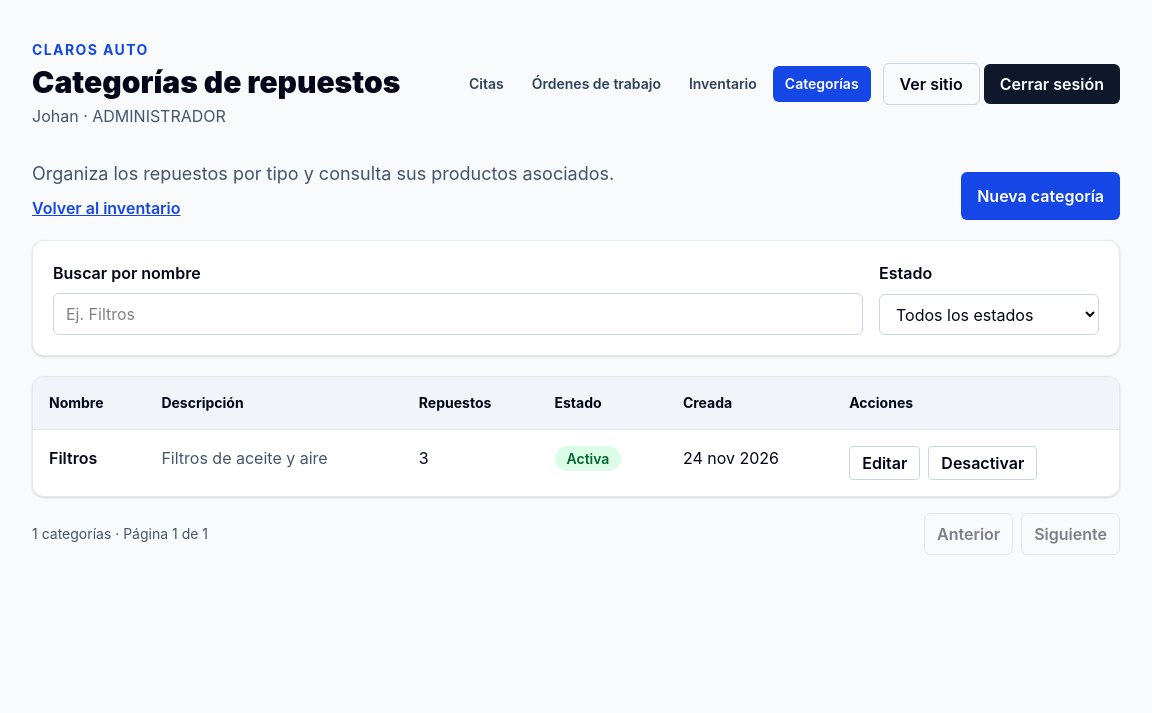
Scenario: página de categorías de repuestos › edita nombre y descripción conservando el ID recibido del servidor
Click the button "Editar": (885, 463) [849, 446, 920, 480]
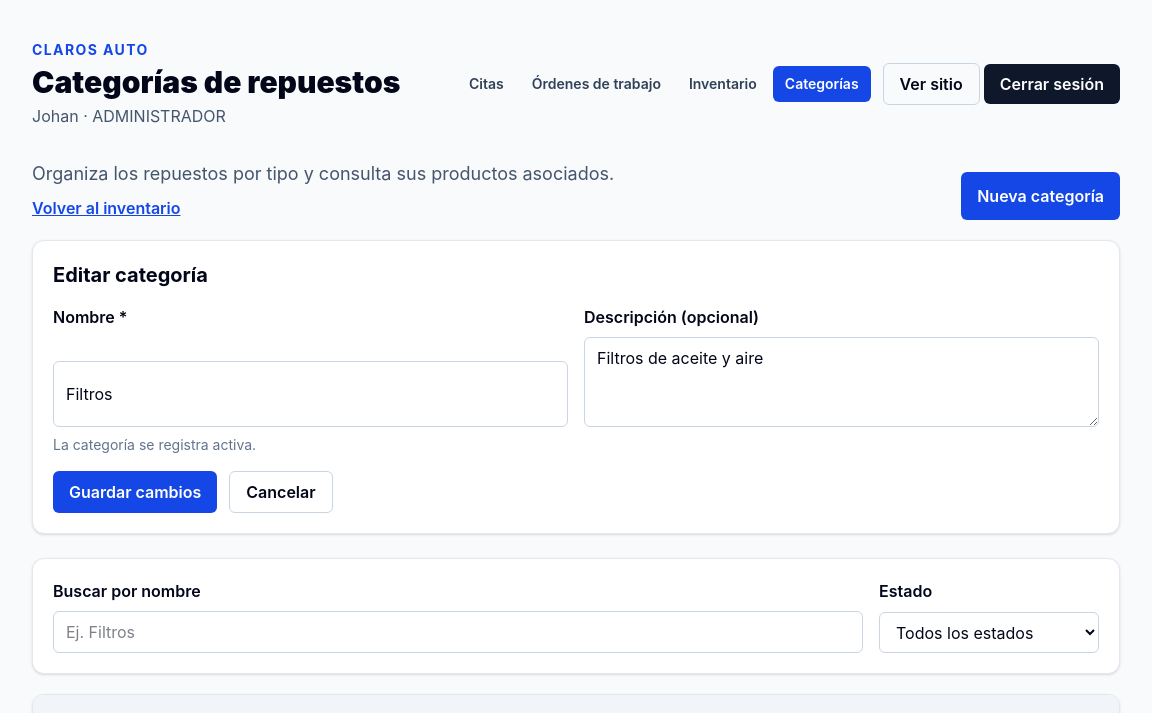
Replace the text in the field labelled "Nombre *" with "Filtros de motor": (310, 394) [53, 361, 568, 427]
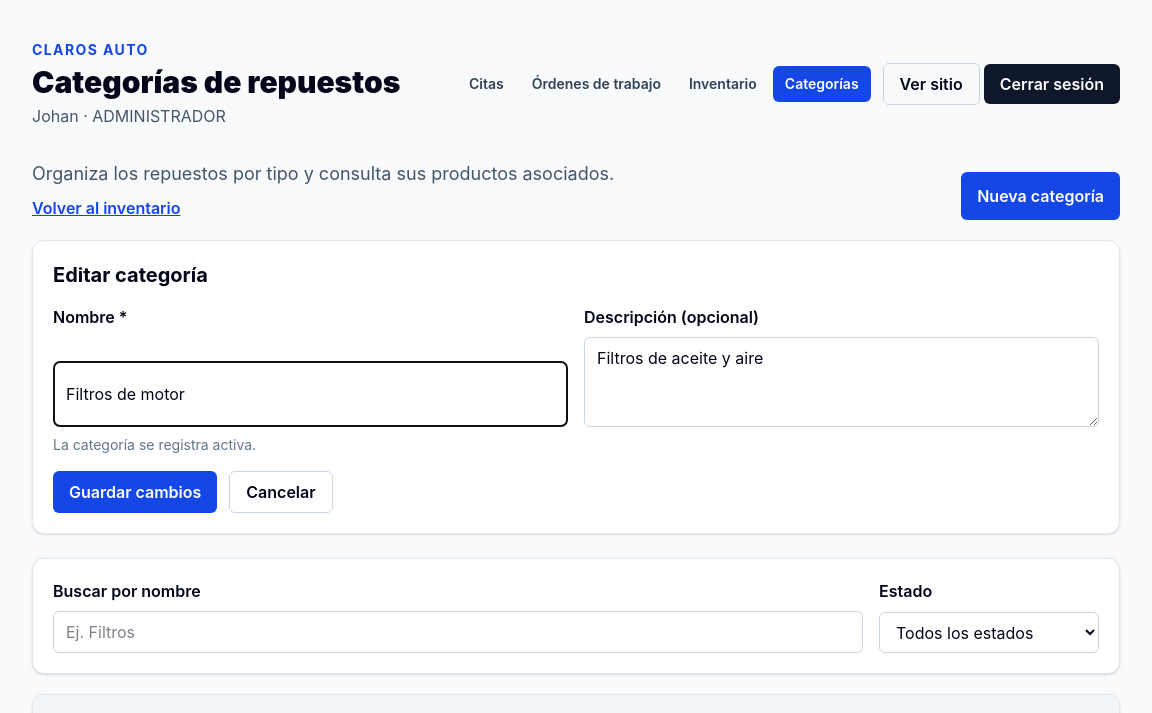
Click the button "Guardar cambios": (135, 492) [53, 471, 217, 513]
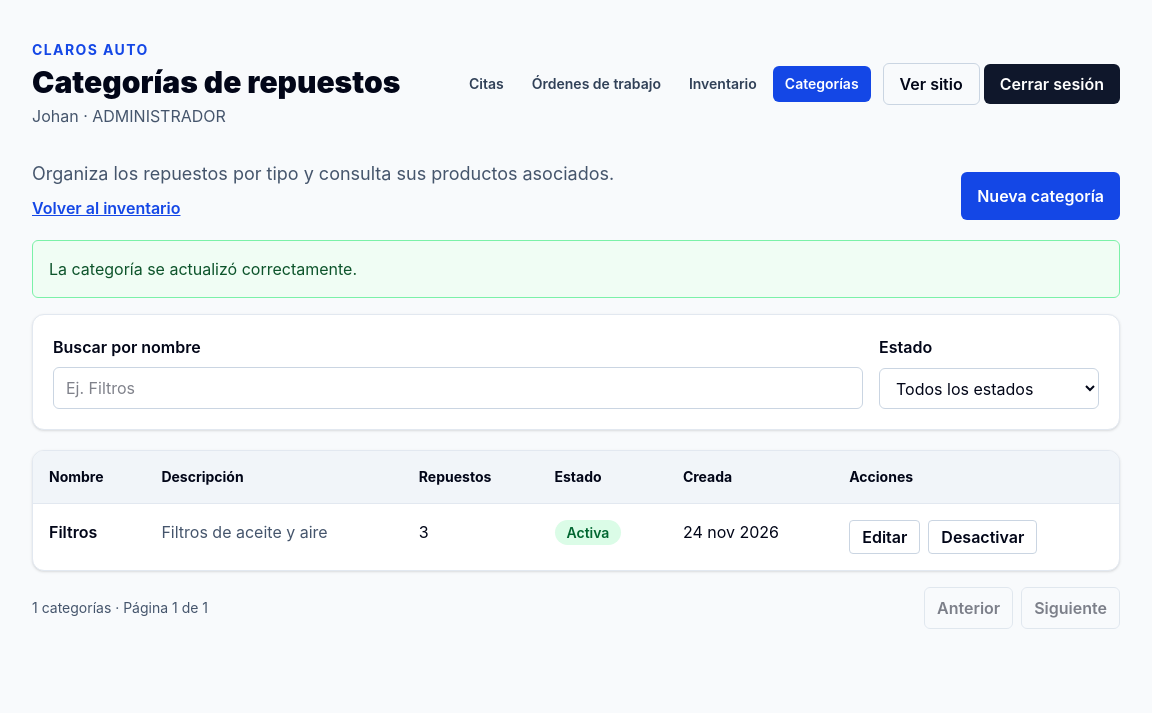
Expected: the text "La categoría se actualizó correctamente." is shown, [32, 240, 1120, 298]
